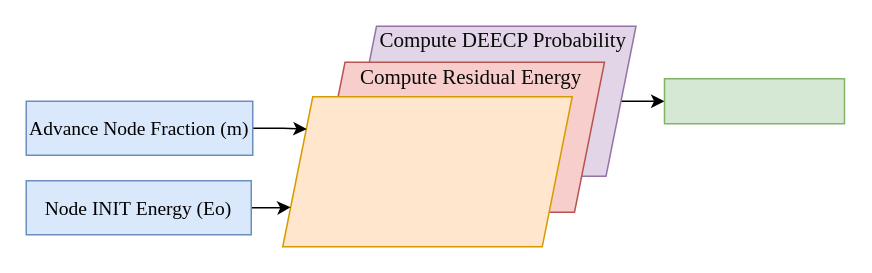
Image size: 872x273. Some labels were removed from this diagram. Here are the shapes that lost their labels. From the top down, the centre of each, then its label:
the point at 753,100: CH Candidate List
the point at 426,171: Energy Normalized Heterogeneity
